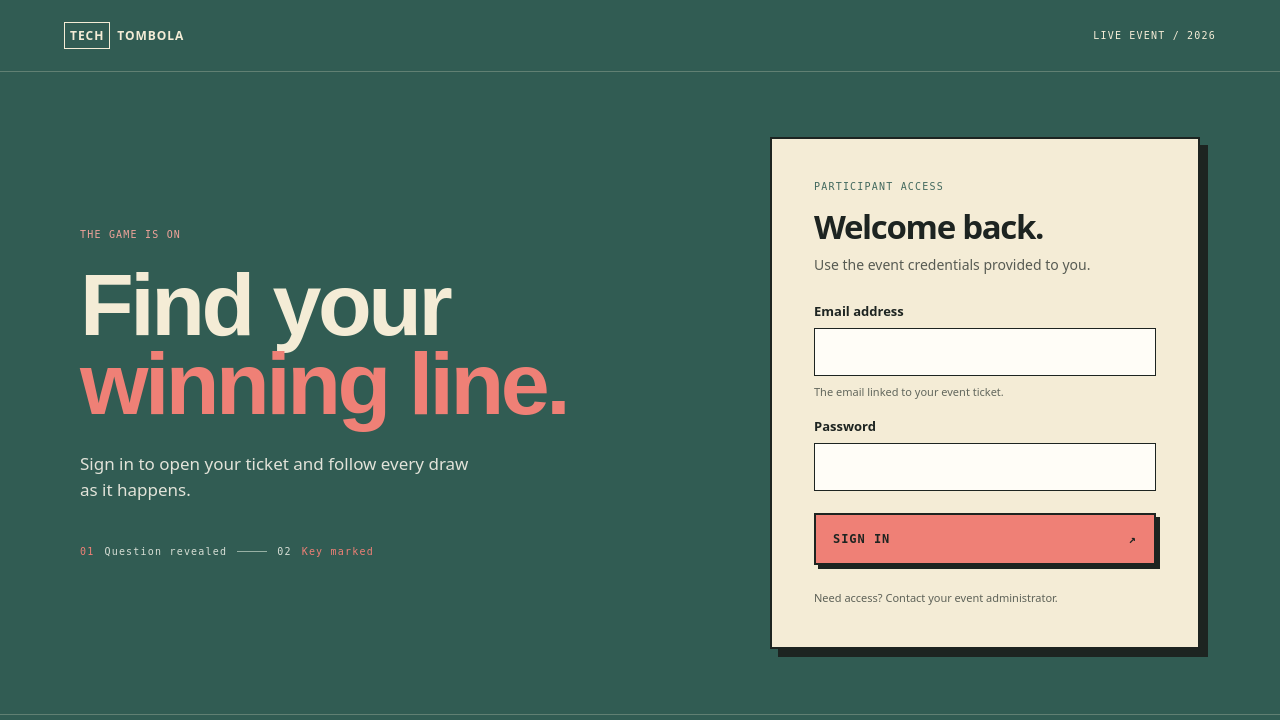
it: LoginPage › shows a generic invalid-credentials message for a 401 response
Type "attendee@example.test" into the field labelled "Email address The email linked to your event ticket." at (985, 352), box [814,328,1156,376]
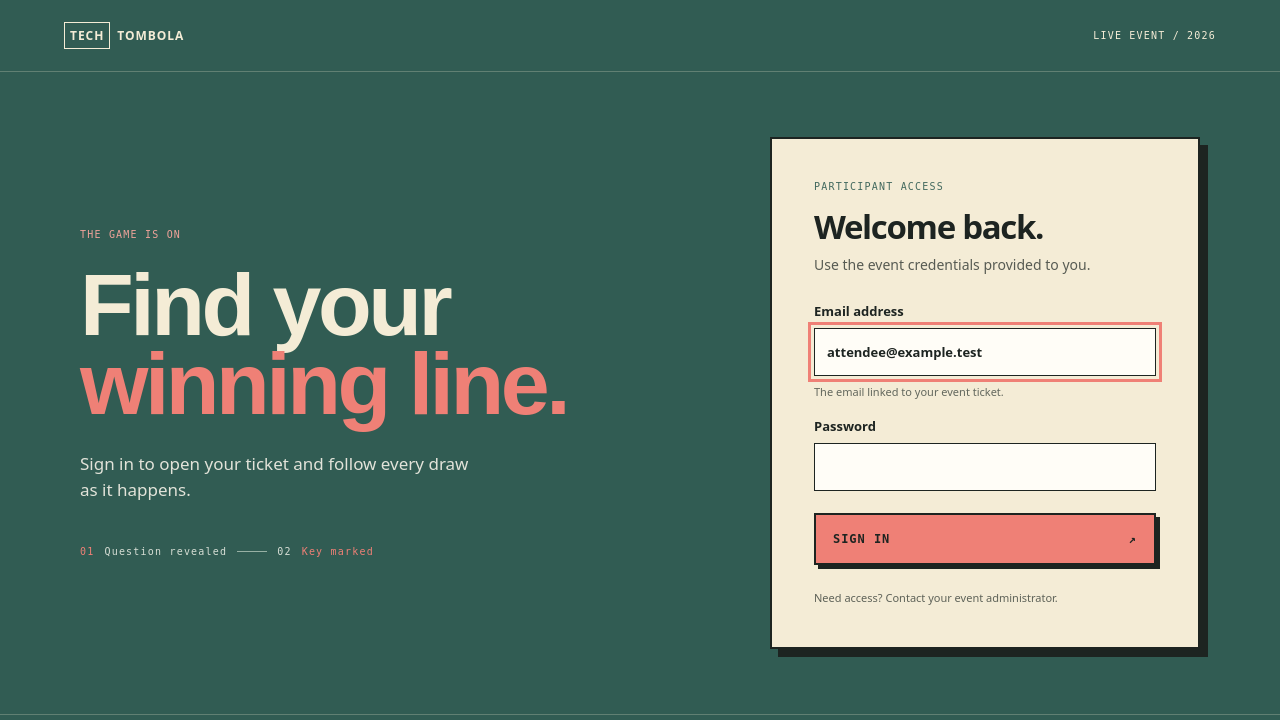
Type "wrong-password" into the password field labelled "Password" at (985, 467), box [814,443,1156,491]
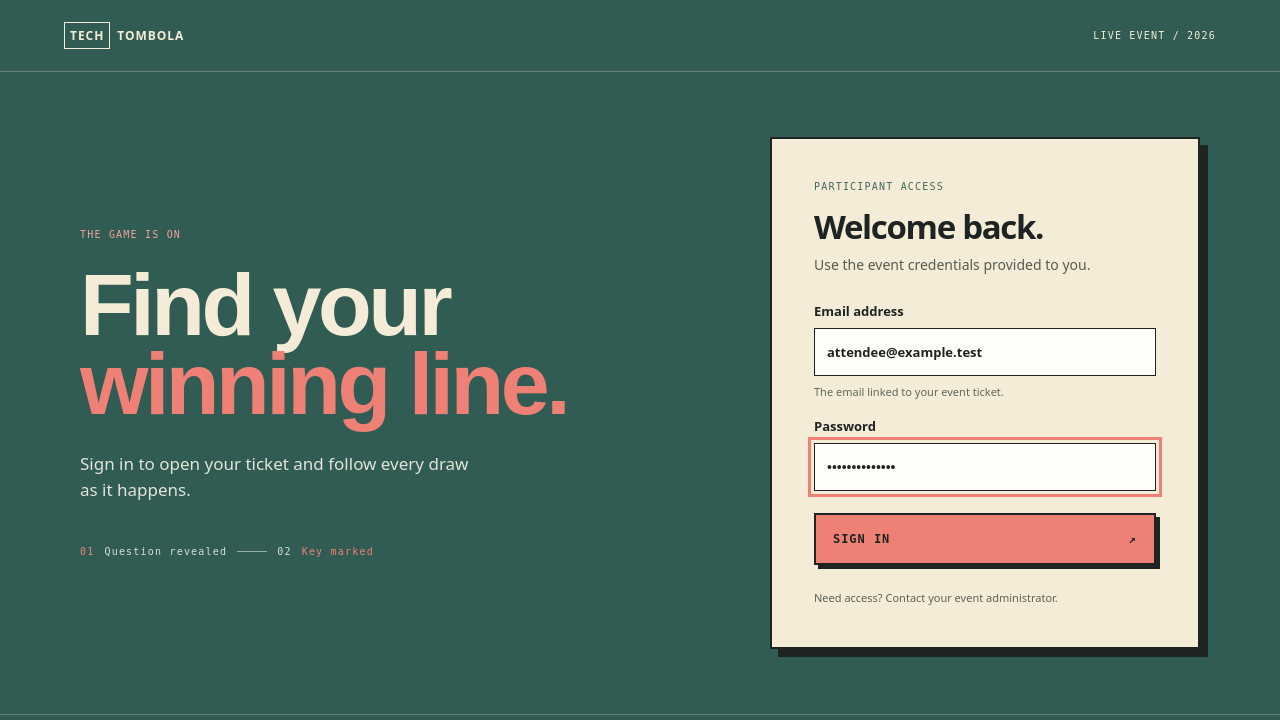
Click the button "SIGN IN ↗" at (862, 539), box [814,513,1156,565]
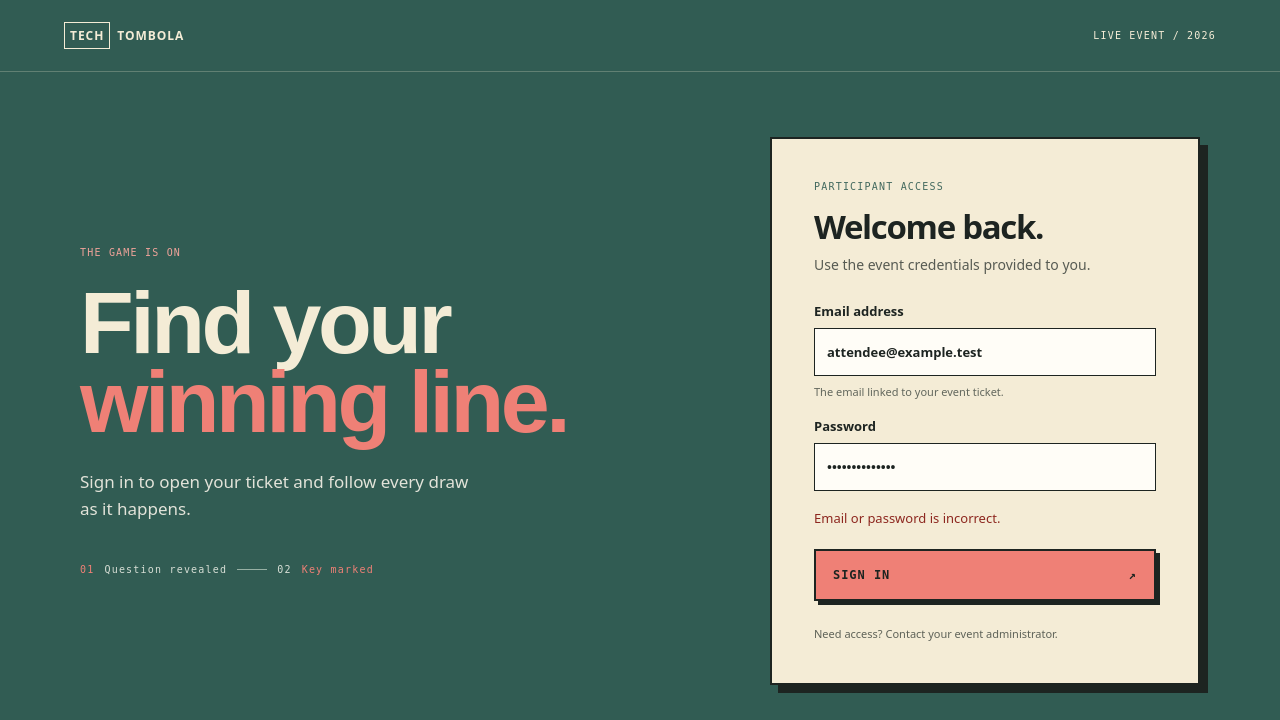
Check: the message shows "Email or password is incorrect", box [814,509,1000,527]
